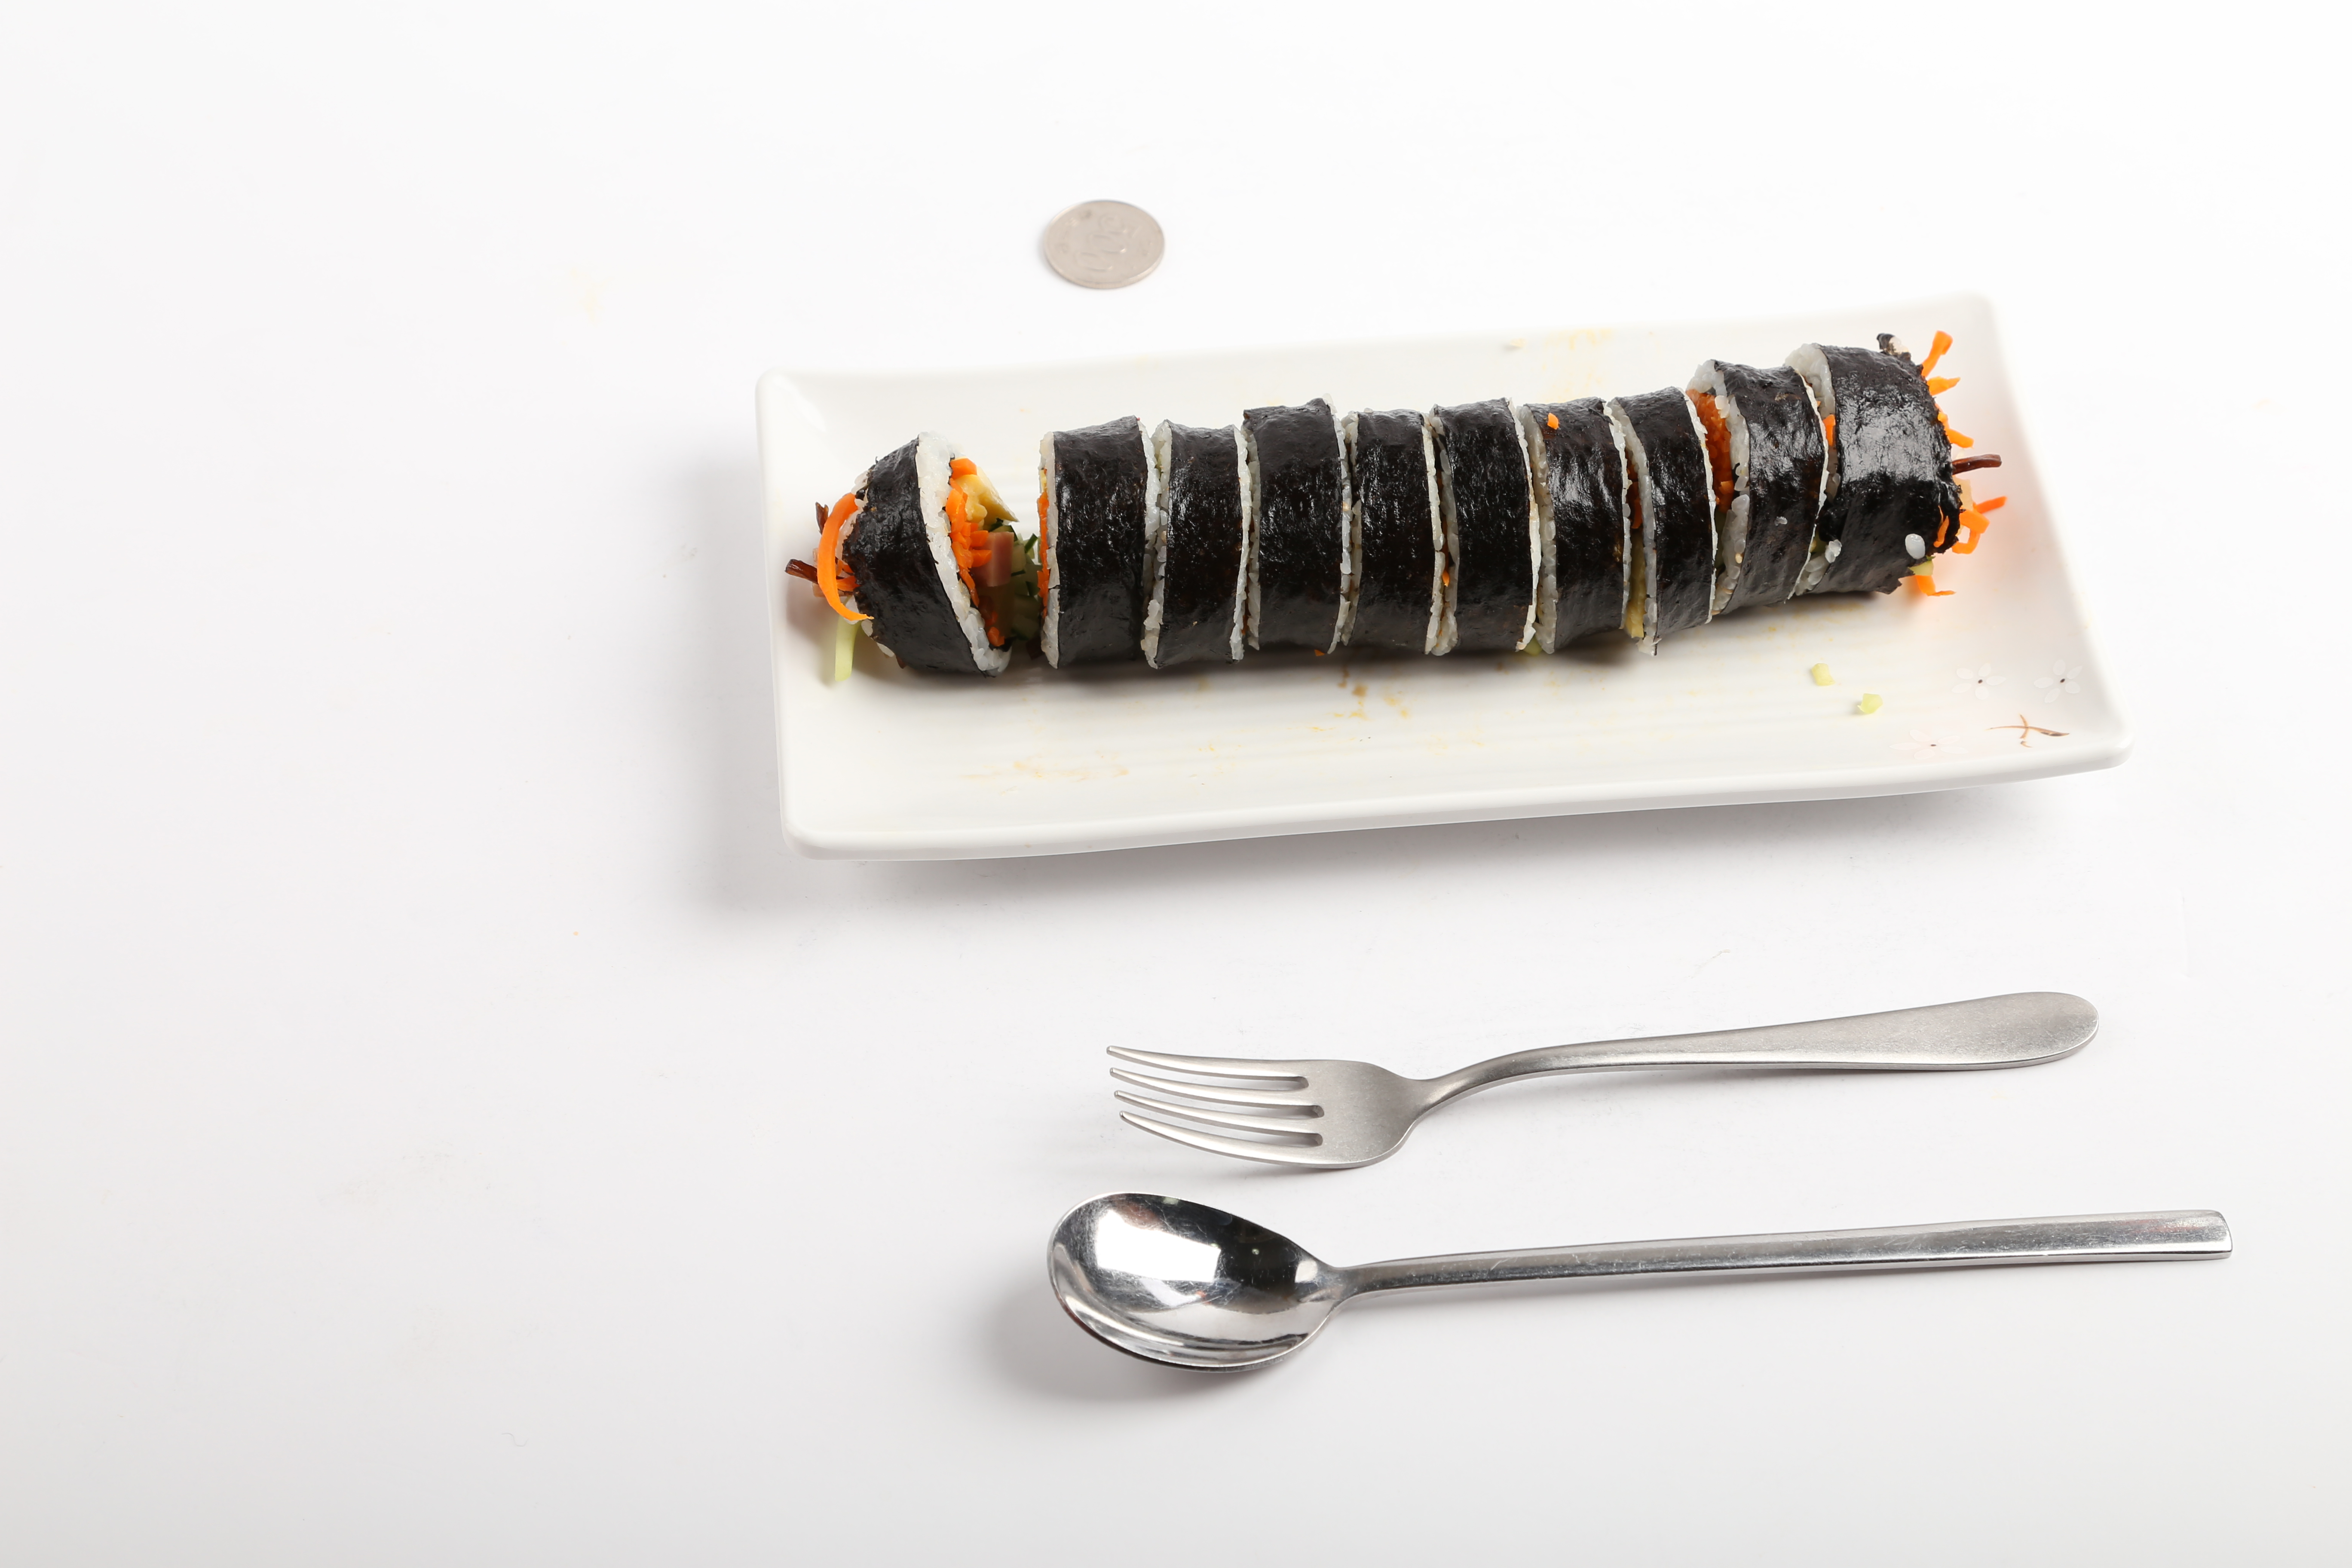dish: (758, 282, 2133, 870)
ref_coin: (1034, 194, 1171, 296)
ref_fork: (1097, 1041, 1556, 1172)
ref_spoon: (1038, 1186, 1442, 1381)
김밥: (805, 339, 1976, 686)
